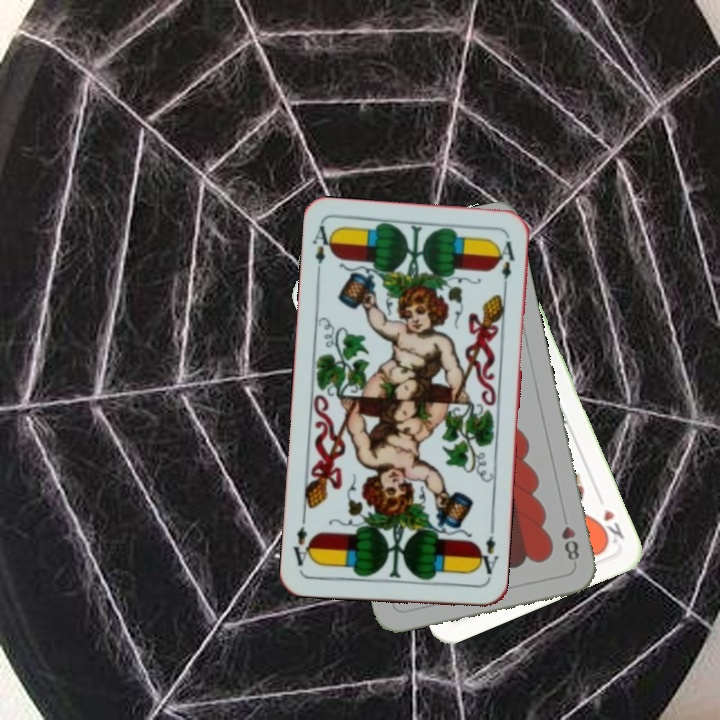EA: (308, 221, 336, 280), (473, 523, 501, 577)
H8: (557, 509, 582, 563)
HK: (593, 505, 627, 548)
